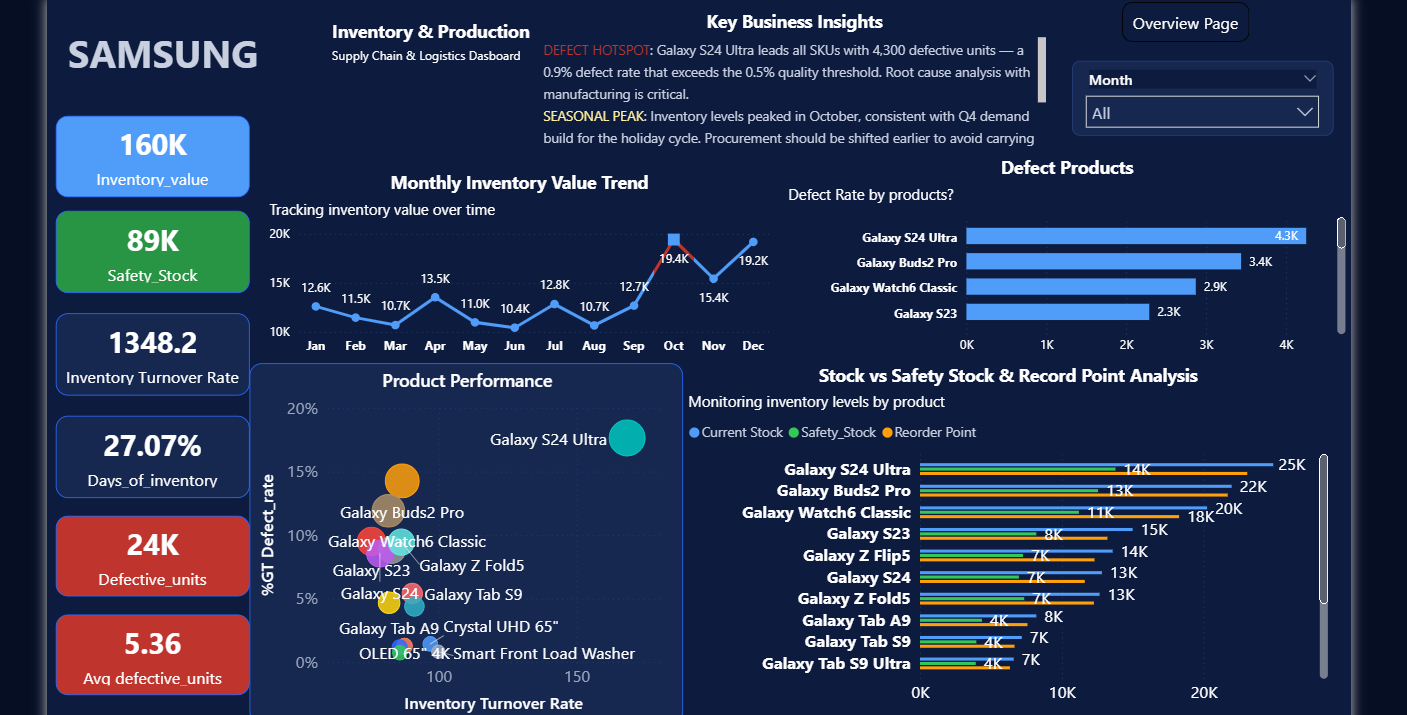

The page's visual inventory and layout, read from the dashboard file:
{"tool":"powerbi","page":{"name":"Inventory","canvas":[1280,720],"ordinal":3},"visuals":[{"type":"textbox","title":"Inventory & Production","box":[275.1,21.7,241.3,51.9],"z":0},{"type":"image","box":[8.2,16.5,225,56.3],"z":1000},{"type":"card","fields":{"Values":["MeasuresTable.Safety_Stock"]},"box":[8.6,210.3,190.8,80.7],"z":2000},{"type":"card","fields":{"Values":["MeasuresTable.Turnover Rate"]},"box":[8.6,310.6,190.8,80.7],"z":3000},{"type":"card","fields":{"Values":["MeasuresTable.Days_of_inventory"]},"box":[8.6,410.9,190.8,80.7],"z":4000},{"type":"card","fields":{"Values":["MeasuresTable.Inventory_value"]},"box":[8.6,116.2,190.8,80],"z":5000},{"type":"card","fields":{"Values":["Sum(fact_production.defective_units)"]},"box":[8.6,508.7,190.8,79.5],"z":6000},{"type":"card","fields":{"Values":["Avg(fact_production.defective_units)"]},"box":[8.6,606.5,190.8,79.5],"z":7000},{"type":"clusteredBarChart","title":"Defect Products","fields":{"Category":["dim_product.product_name"],"Y":["MeasuresTable.Defect_rate"]},"box":[213.5,375.2,364.3,329.4],"z":8000},{"type":"lineClusteredColumnComboChart","title":" Stock vs Safety Stock & Record Point Analysis","fields":{"Category":["dim_product.product_name"],"Y":["MeasuresTable.Inventory_value","MeasuresTable.Safety_Stock"],"Y2":["MeasuresTable.Reorder Point"]},"box":[596,375.2,646.7,329.4],"z":9000},{"type":"lineChart","title":"Monthly Defective Units Trend","fields":{"Y":["Avg(fact_production.defective_units)"],"Category":["dim_date.Month_Short"]},"box":[728.7,170.1,513.9,189.4],"z":10000},{"type":"lineChart","title":"Monthly Inventory Value Trend","fields":{"Category":["dim_date.Month_Short"],"Y":["MeasuresTable.Inventory_value"]},"box":[213.5,170.1,500.7,189.4],"z":11000},{"type":"actionButton","box":[1118.4,16.9,124.3,39.8],"z":12000},{"type":"textbox","title":"Key Business Insights","box":[535,36.8,471.2,99.4],"z":13000}]}

Visuals, with their boxes on the page's 1280x720 design canvas (x1, y1, x2, y2). These are canvas units, not pixel positions in the 1407x715 screenshot, which may show the page scaled, cropped or inside an application window:
"Inventory & Production" textbox: 275 22 516 74
image: 8 16 233 73
card - MeasuresTable.Safety_Stock: 9 210 199 291
card - MeasuresTable.Turnover Rate: 9 311 199 391
card - MeasuresTable.Days_of_inventory: 9 411 199 492
card - MeasuresTable.Inventory_value: 9 116 199 196
card - Sum(fact_production.defective_units): 9 509 199 588
card - Avg(fact_production.defective_units): 9 606 199 686
"Defect Products" clusteredBarChart: 214 375 578 705
" Stock vs Safety Stock & Record Point Analysis" lineClusteredColumnComboChart: 596 375 1243 705
"Monthly Defective Units Trend" lineChart: 729 170 1243 360
"Monthly Inventory Value Trend" lineChart: 214 170 714 360
actionButton: 1118 17 1243 57
"Key Business Insights" textbox: 535 37 1006 136
